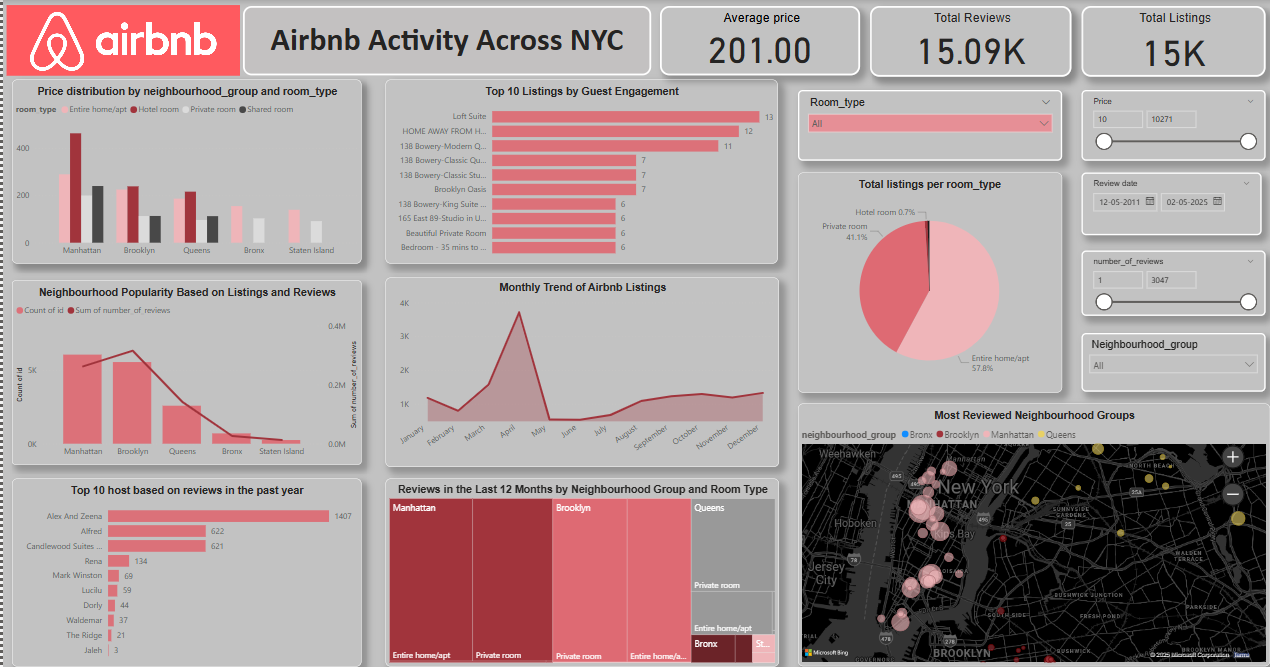

What the dashboard file says about the page in this screenshot:
{"tool":"powerbi","page":{"name":"Airbnb_Dashboard","canvas":[1900,1000],"ordinal":0},"visuals":[{"type":"image","box":[0,2,360,116],"z":0},{"type":"card","title":"Total Listings","fields":{"Values":["Airbnb.Total listings"]},"box":[1616,8,276,106],"z":1000},{"type":"card","title":"Total Reviews","fields":{"Values":["Airbnb.number_of_reviews"]},"box":[1300,8,302,106],"z":2000},{"type":"card","title":"Average price","fields":{"Values":["Airbnb.price"]},"box":[986,8,300,104],"z":3000},{"type":"clusteredColumnChart","title":" Price distribution by neighbourhood_group and room_type","fields":{"Category":["Airbnb.neighbourhood_group"],"Series":["Airbnb.room_type"],"Y":["Airbnb.price"]},"box":[14,120,524,276],"z":4000},{"type":"pieChart","title":"Total listings per  room_type","fields":{"Category":["Airbnb.room_type"],"Y":["Airbnb.id"]},"box":[1192,258,396,330],"z":5000},{"type":"lineStackedColumnComboChart","title":"Neighbourhood Popularity Based on Listings and  Reviews","fields":{"Category":["Airbnb.neighbourhood_group"],"Y":["Airbnb.id"],"Y2":["Airbnb.number_of_reviews"]},"box":[14,420,524,276],"z":6000},{"type":"lineChart","title":"Monthly Trend of  Airbnb Listings","fields":{"Category":["Airbnb.last_review.Variation.Date Hierarchy.Month"],"Y":["Airbnb.id"]},"box":[574,416,590,284],"z":7000},{"type":"clusteredBarChart","title":"Top 10 Listings by Guest Engagement","fields":{"Category":["Airbnb.name"],"Y":["Airbnb.id"]},"box":[574,120,588,276],"z":8000},{"type":"map","title":"Most Reviewed Neighbourhood Groups","fields":{"Y":["Airbnb.latitude"],"X":["Airbnb.longitude"],"Size":["Airbnb.number_of_reviews"],"Series":["Airbnb.neighbourhood_group"]},"box":[1192,606,708,394],"z":9000},{"type":"clusteredBarChart","title":"Top 10 host based on reviews in the past year","fields":{"Category":["Airbnb.host_name"],"Y":["Airbnb.number_of_reviews_ltm"]},"box":[14,718,524,282],"z":10000},{"type":"treemap","title":"Reviews in the Last 12 Months by Neighbourhood Group and Room Type","fields":{"Group":["Airbnb.neighbourhood_group"],"Details":["Airbnb.room_type"],"Values":["Airbnb.number_of_reviews_ltm"]},"box":[574,718,590,282],"z":11000},{"type":"slicer","fields":{"Values":["Airbnb.room_type"]},"box":[1192,136,396,106],"z":12000},{"type":"slicer","fields":{"Values":["Airbnb.neighbourhood_group"]},"box":[1616,500,276,88],"z":13000},{"type":"slicer","fields":{"Values":["Airbnb.price"]},"box":[1616,136,276,106],"z":14000},{"type":"slicer","fields":{"Values":["Airbnb.number_of_reviews"]},"box":[1616,376,276,98],"z":15000},{"type":"textbox","box":[360,8,612,104],"z":16000},{"type":"slicer","fields":{"Values":["Airbnb.last_review"]},"box":[1618,258,270,94],"z":17000}]}

Visuals, with their boxes in screenshot pixels (x1, y1, x2, y2), scaled from the page's 1900x1000 canvas onto the 1270x667 screenshot:
image: locate(0, 1, 241, 79)
"Total Listings" card: locate(1080, 5, 1265, 76)
"Total Reviews" card: locate(869, 5, 1071, 76)
"Average price" card: locate(659, 5, 860, 75)
" Price distribution by neighbourhood_group and room_type" clusteredColumnChart: locate(9, 80, 360, 264)
"Total listings per  room_type" pieChart: locate(797, 172, 1061, 392)
"Neighbourhood Popularity Based on Listings and  Reviews" lineStackedColumnComboChart: locate(9, 280, 360, 464)
"Monthly Trend of  Airbnb Listings" lineChart: locate(384, 277, 778, 467)
"Top 10 Listings by Guest Engagement" clusteredBarChart: locate(384, 80, 777, 264)
"Most Reviewed Neighbourhood Groups" map: locate(797, 404, 1269, 666)
"Top 10 host based on reviews in the past year" clusteredBarChart: locate(9, 479, 360, 666)
"Reviews in the Last 12 Months by Neighbourhood Group and Room Type" treemap: locate(384, 479, 778, 666)
slicer - Airbnb.room_type: locate(797, 91, 1061, 161)
slicer - Airbnb.neighbourhood_group: locate(1080, 334, 1265, 392)
slicer - Airbnb.price: locate(1080, 91, 1265, 161)
slicer - Airbnb.number_of_reviews: locate(1080, 251, 1265, 316)
textbox: locate(241, 5, 650, 75)
slicer - Airbnb.last_review: locate(1082, 172, 1262, 235)
